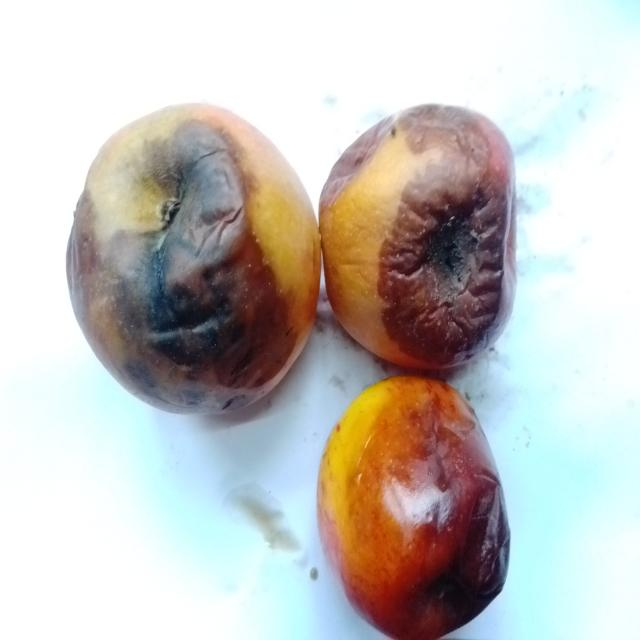apple: (67, 105, 320, 412), (320, 105, 515, 369), (318, 377, 509, 639)
